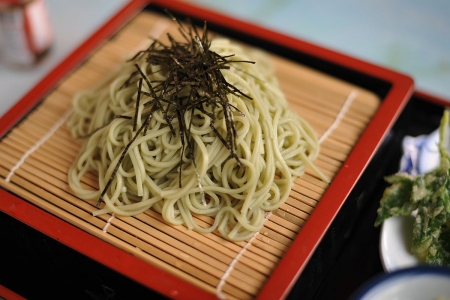Soba: (77, 36, 325, 231)
